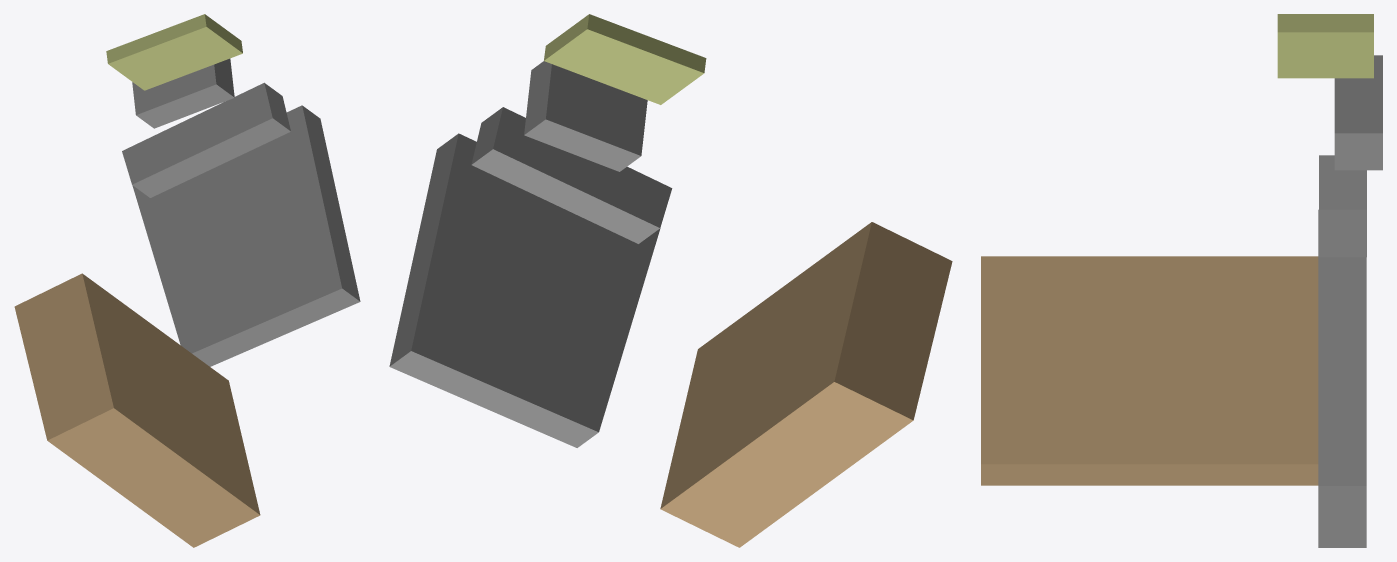
The picture shows the model from 3 angles, left to right: view 1: azimuth 30°, elevation 25°; view 2: azimuth 150°, elevation 25°; view 3: azimuth 270°, elevation 25°; orthographic projection. The views are drawn at different scales.
Parts seen in each view (by area): view 1: 0_1_2_0_1_1_0_0_1; view 2: 0_1_2_0_1_1_0_0_1; view 3: 0_1_2_0_1_1_0_0_1.
Boxes of the visible parts, x1,y1,x2,y2 form: 0_1_2_0_1_1_0_0_1: (14, 14, 360, 547); 0_1_2_0_1_1_0_0_1: (389, 14, 952, 547); 0_1_2_0_1_1_0_0_1: (981, 14, 1382, 547).
Size of the model in its own units: 30.98 by 34.84 by 25.
